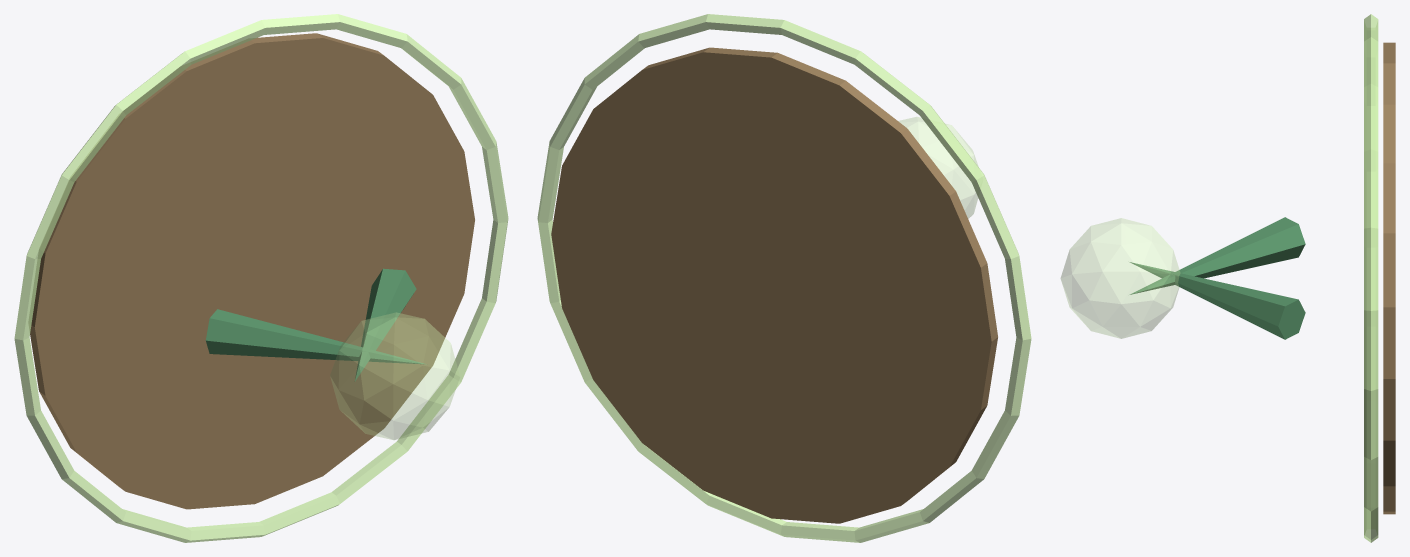
Rendered from 07_weather_terrain_nature_effect.glb.
The picture shows the model from 3 angles, left to right: view 1: azimuth 30°, elevation 25°; view 2: azimuth 150°, elevation 25°; view 3: azimuth 270°, elevation 25°; orthographic projection. The views are drawn at different scales.
Parts seen in each view (by area): view 1: terrain_patch, weather_boundary, weather_orb, root_spike_l, root_spike_r; view 2: terrain_patch, weather_boundary, weather_orb; view 3: weather_orb, weather_boundary, terrain_patch, root_spike_r, root_spike_l.
Boxes of the visible parts, x1,y1,x2,y2 form: terrain_patch: (29,33,474,509); weather_boundary: (14,14,508,542); weather_orb: (330,312,459,439); root_spike_l: (205,309,425,364); root_spike_r: (354,268,416,381); terrain_patch: (551,47,997,523); weather_boundary: (537,14,1031,542); weather_orb: (898,117,978,218); weather_orb: (1060,218,1180,338); weather_boundary: (1364,14,1378,542); terrain_patch: (1383,42,1395,514); root_spike_r: (1130,262,1305,339); root_spike_l: (1130,217,1305,294).
Bounding box in the file's own units: 1.75 × 1.75 × 1.1.
